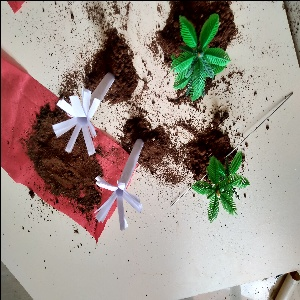plant: (164, 7, 240, 99), (195, 153, 247, 214)
weed: (43, 63, 109, 154), (97, 132, 151, 238)
